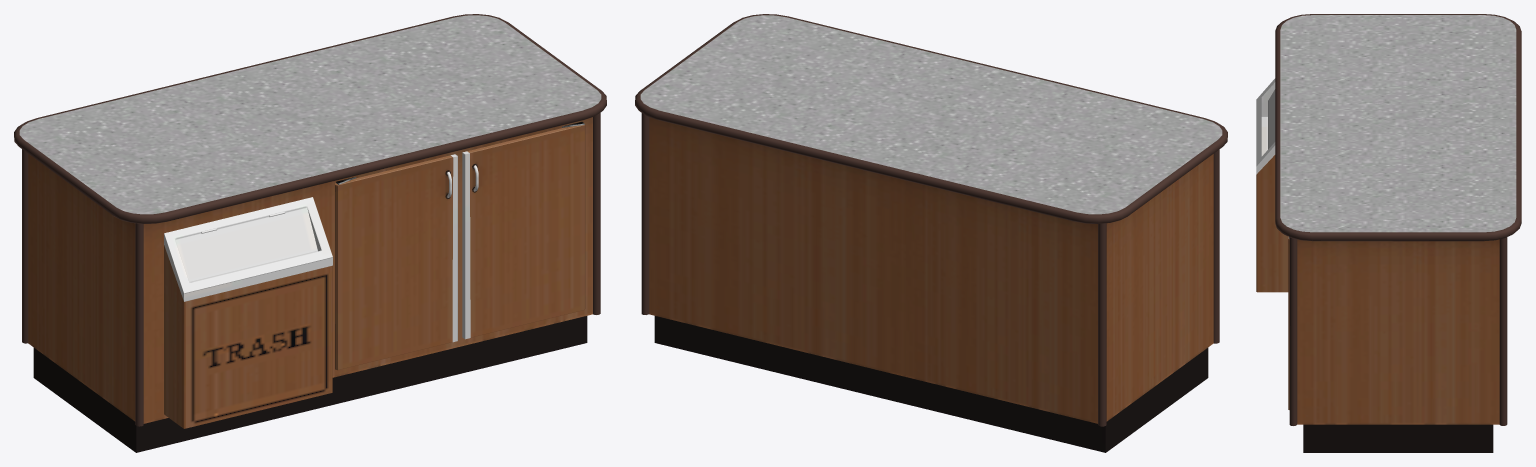
File: 172_juiceshelf01a.fbx
The picture shows the model from 3 angles, left to right: view 1: azimuth 30°, elevation 25°; view 2: azimuth 150°, elevation 25°; view 3: azimuth 270°, elevation 25°; orthographic projection. The views are drawn at different scales.
Visible parts, largest first — view 1: LOD_1_Group_0_Sub_1__sm30_172_JuiceShelf01A_A_Mat; view 2: LOD_1_Group_0_Sub_1__sm30_172_JuiceShelf01A_A_Mat; view 3: LOD_1_Group_0_Sub_1__sm30_172_JuiceShelf01A_A_Mat.
Part boxes in pixels (x1=…): LOD_1_Group_0_Sub_1__sm30_172_JuiceShelf01A_A_Mat: x1=14, y1=14, x2=606, y2=452; LOD_1_Group_0_Sub_1__sm30_172_JuiceShelf01A_A_Mat: x1=635, y1=14, x2=1227, y2=452; LOD_1_Group_0_Sub_1__sm30_172_JuiceShelf01A_A_Mat: x1=1256, y1=14, x2=1521, y2=452.
Bounding box in the file's own units: 1.94 × 0.9277 × 0.9801.
